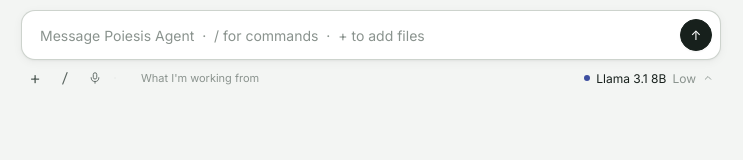
Scenario: the / button › with an empty box types the slash, and the menu opens from the text
Step 1. Click the button with class "slash-btn" → point(65, 78), box [51,64,79,92]
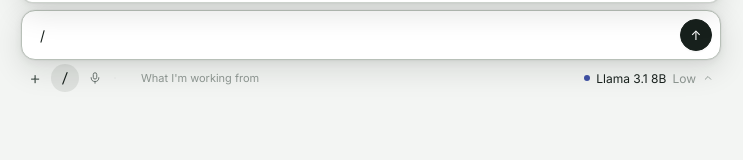
Now the dropdown named "Message Poiesis Agent" holds "/", box [38,20,670,50]
